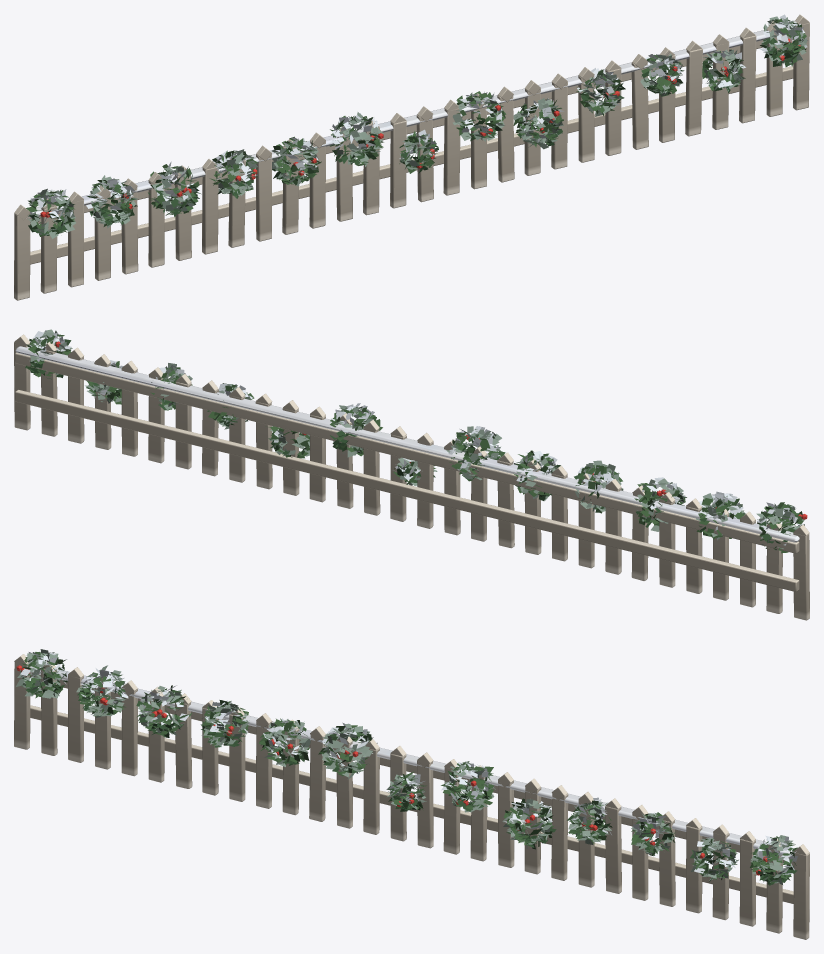
File: unlock-flowerfence-dong.glb
3 views of the same model, one above another, from view 1: azimuth 30°, elevation 25°; view 2: azimuth 150°, elevation 25°; view 3: azimuth 330°, elevation 25° (orthographic).
Parts seen in each view (by area): view 1: unlock-flowerfence-static; view 2: unlock-flowerfence-static; view 3: unlock-flowerfence-static.
Boxes of the visible parts, bbox=[...] form: unlock-flowerfence-static: bbox=[14, 14, 809, 300]; unlock-flowerfence-static: bbox=[14, 329, 809, 620]; unlock-flowerfence-static: bbox=[14, 649, 809, 939].
Size of the model in its own units: 3.25 by 0.4144 by 0.2065.
9 materials, 4 textured.
